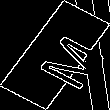M_NW: (15, 22, 95, 88)
